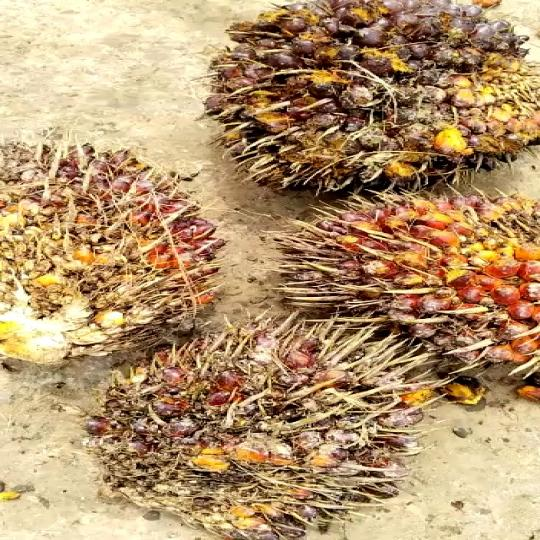masak: (92, 298, 412, 540), (206, 2, 540, 197), (0, 127, 235, 386), (254, 190, 540, 400)
